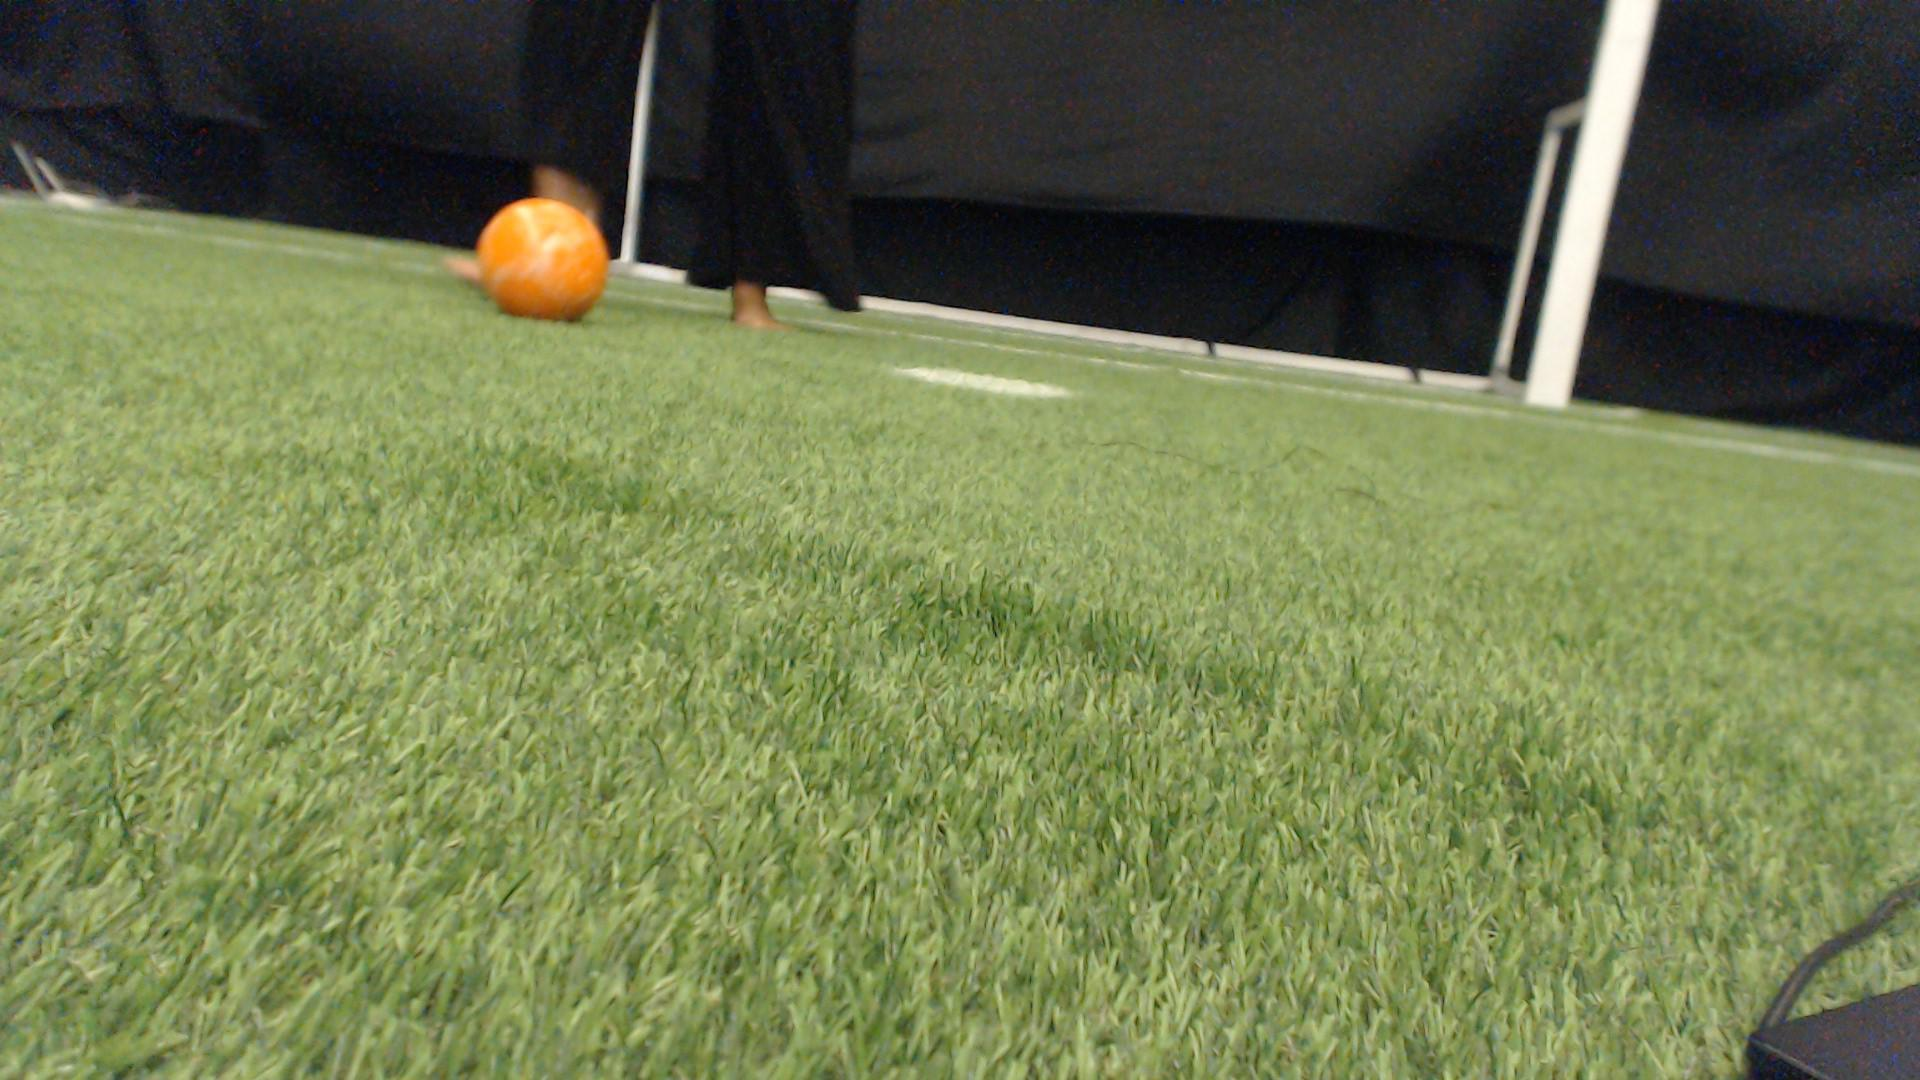bola: (467, 190, 618, 331)
